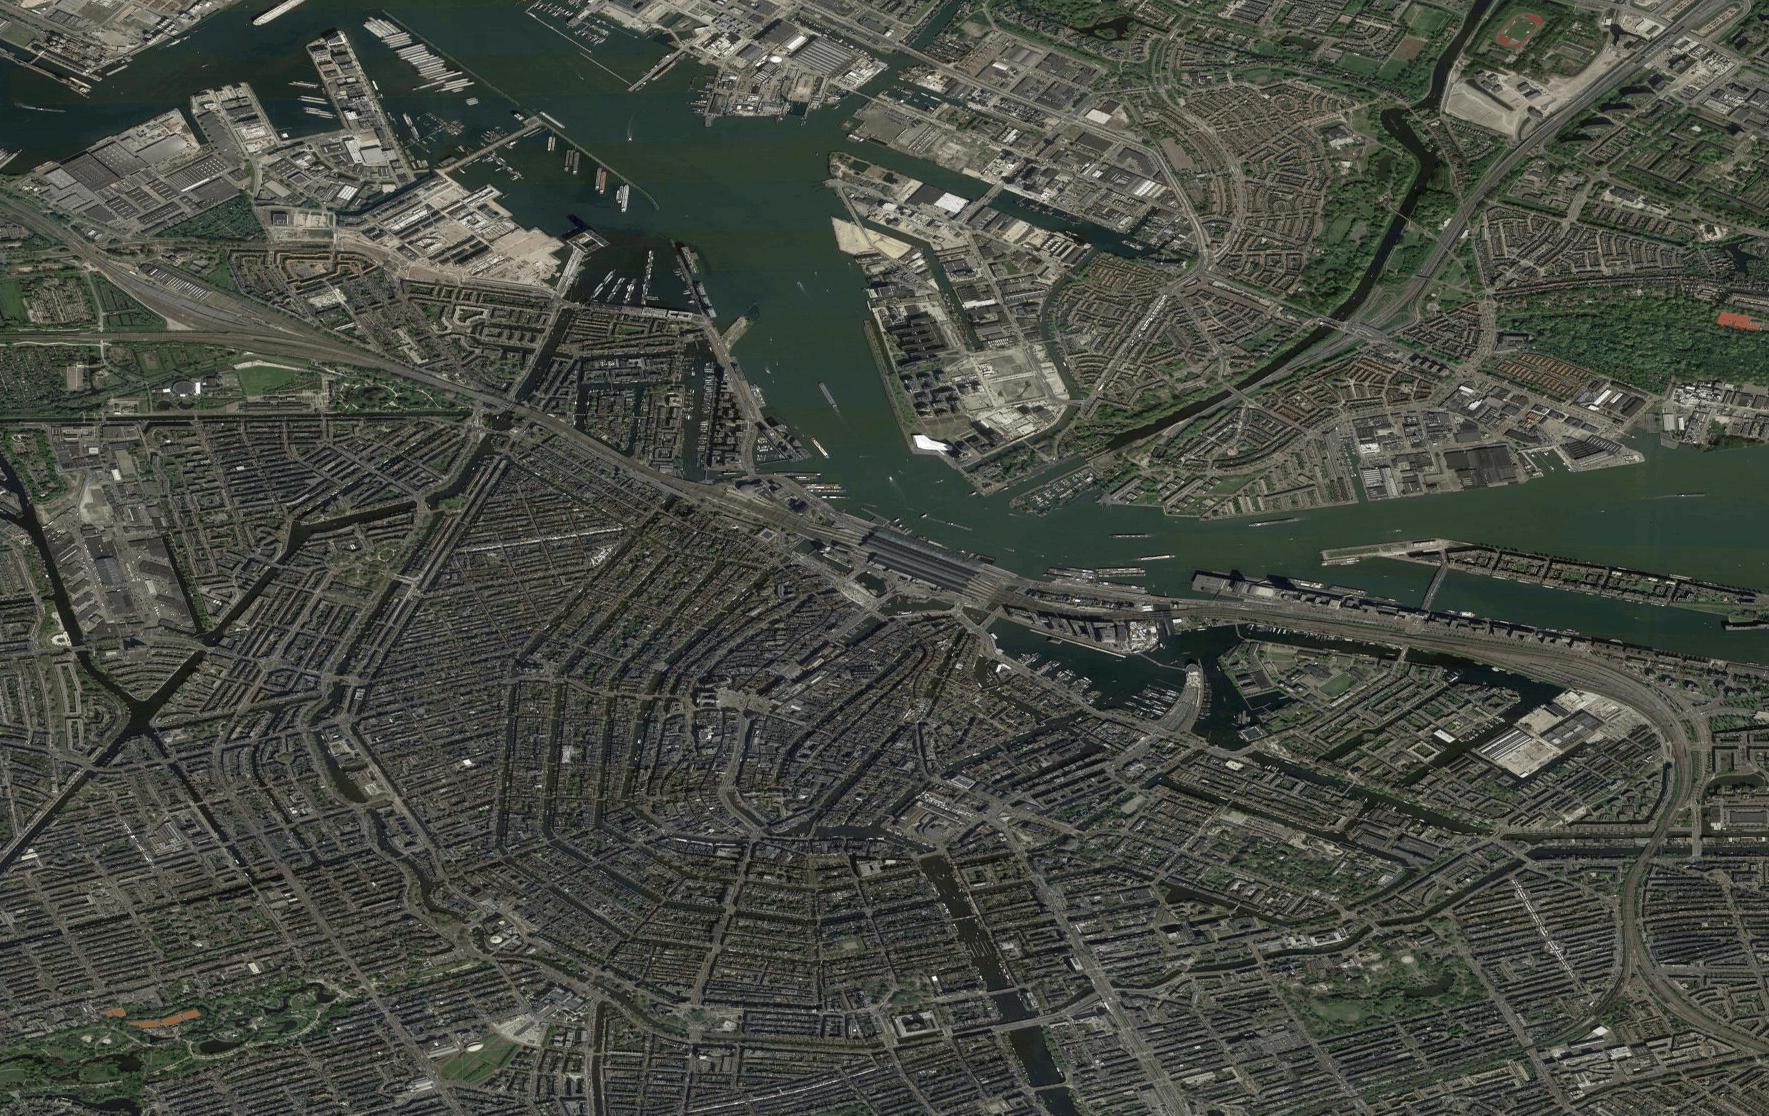bridge: (1419, 564, 1448, 609), (999, 1011, 1041, 1032), (982, 980, 1025, 1002)
harbor: (166, 1, 681, 306)
motorway: (1340, 244, 1450, 350), (1440, 144, 1521, 243), (1516, 67, 1620, 141), (1620, 1, 1724, 75)
train_station: (841, 509, 1005, 608)
